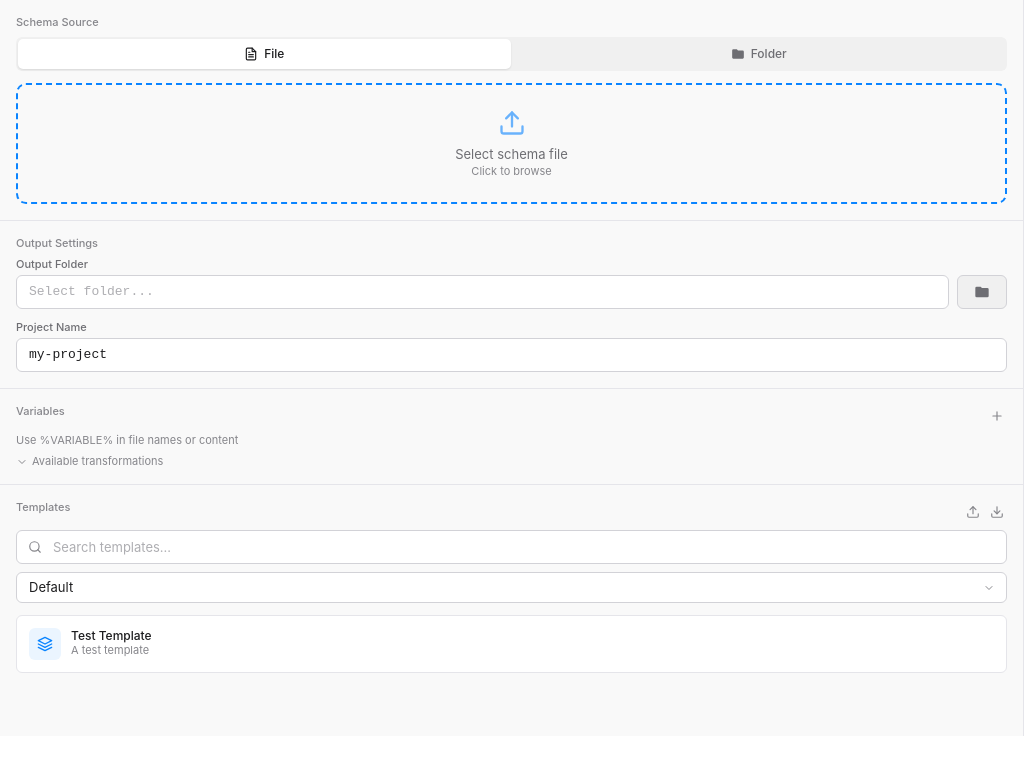
it: LeftPanel › Templates Section › import/export buttons › opens bulk export modal when export button is clicked
Click the button titled "Export templates": point(997, 512) left=987, top=502, right=1007, bottom=522
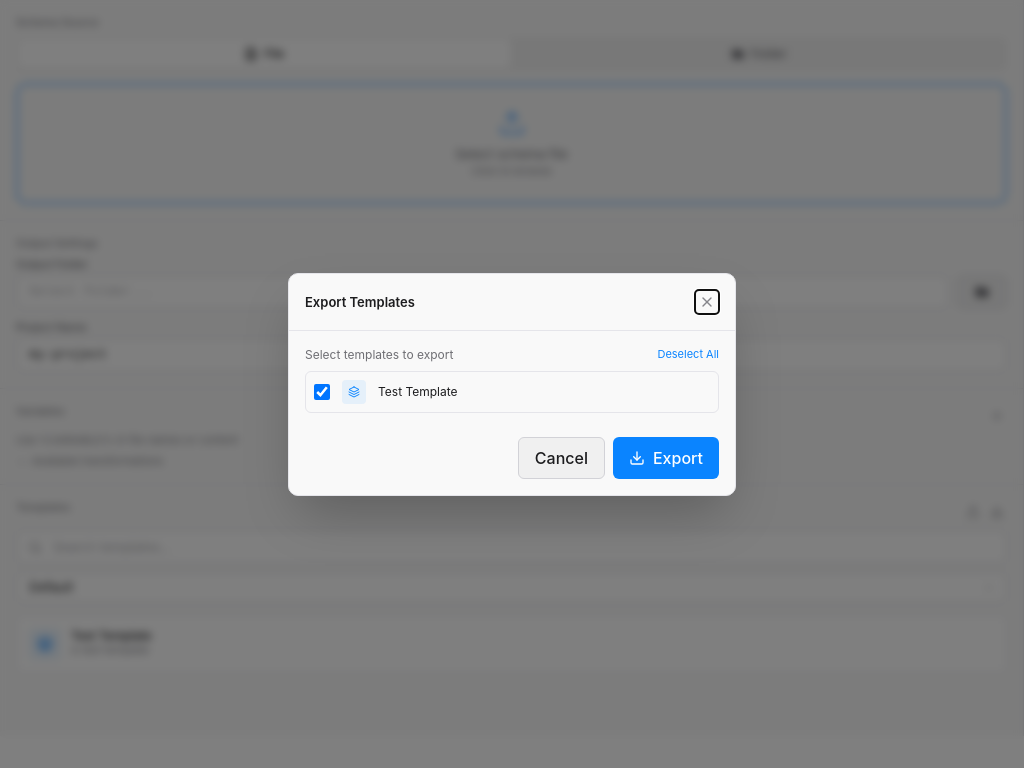
Now the dialog is shown
Now the heading "Export Templates" is shown, box left=305, top=292, right=415, bottom=310
